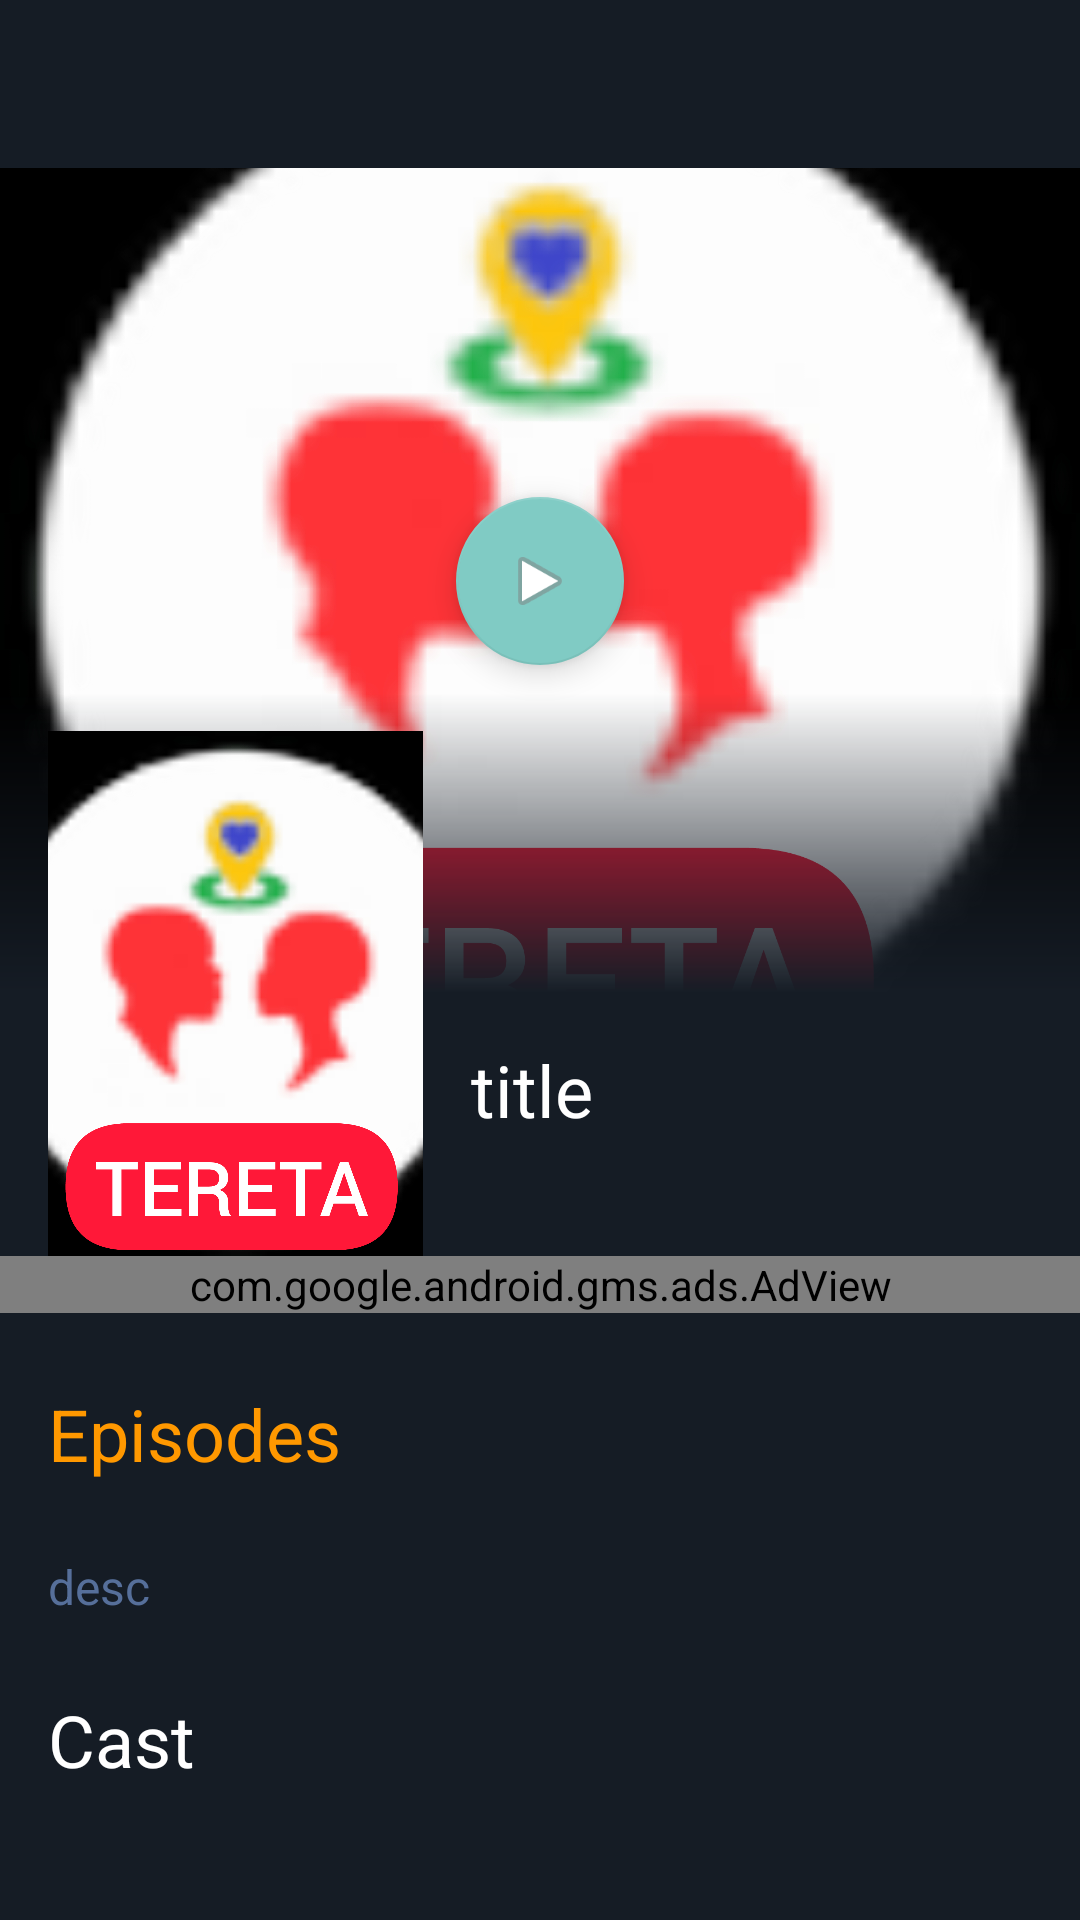

Screen size 1080px x 1920px. Icon name, then its center in pixels as [x,y]:
play: [540,581]
